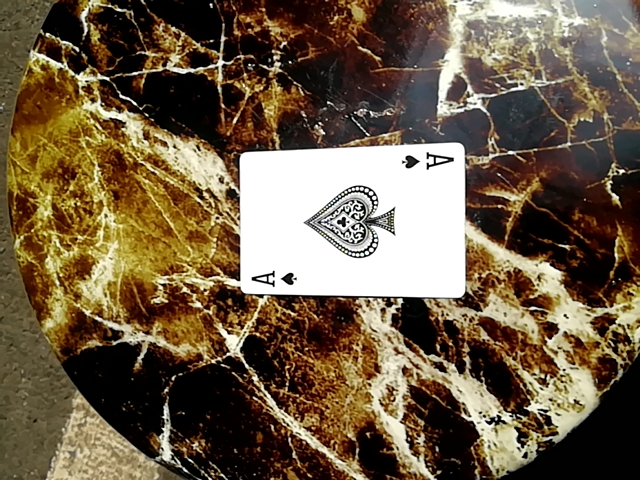ht a: (228, 150, 470, 302)
